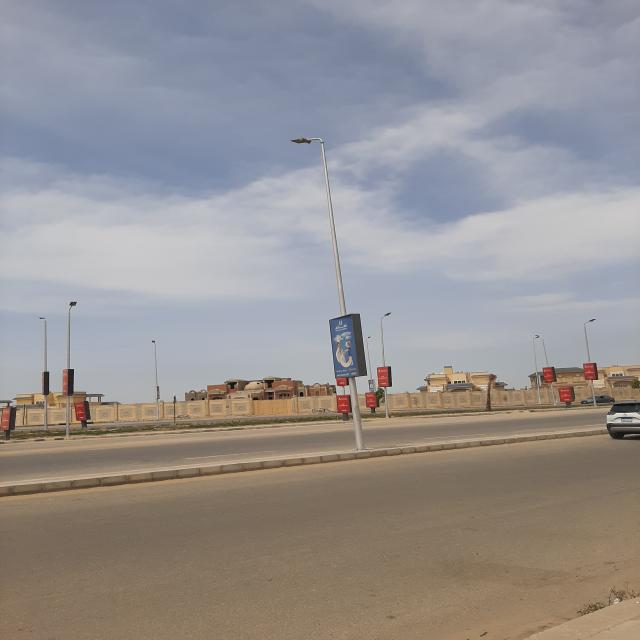Street Light: (291, 136, 365, 451), (65, 301, 78, 437), (534, 334, 558, 405), (583, 319, 599, 406), (380, 312, 392, 417), (39, 317, 50, 429), (366, 336, 378, 408), (151, 340, 160, 420), (532, 336, 542, 404)
